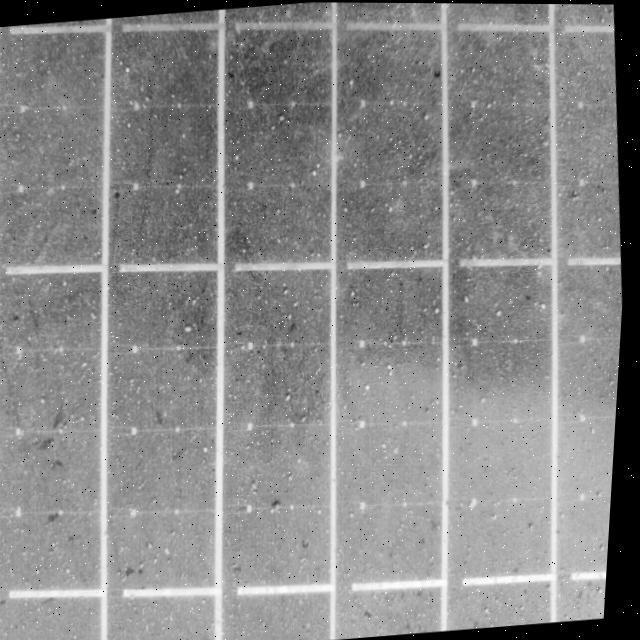Surface Contaminant: (0, 2, 619, 638)
